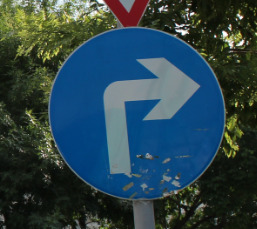right_turn: (47, 27, 225, 201)
